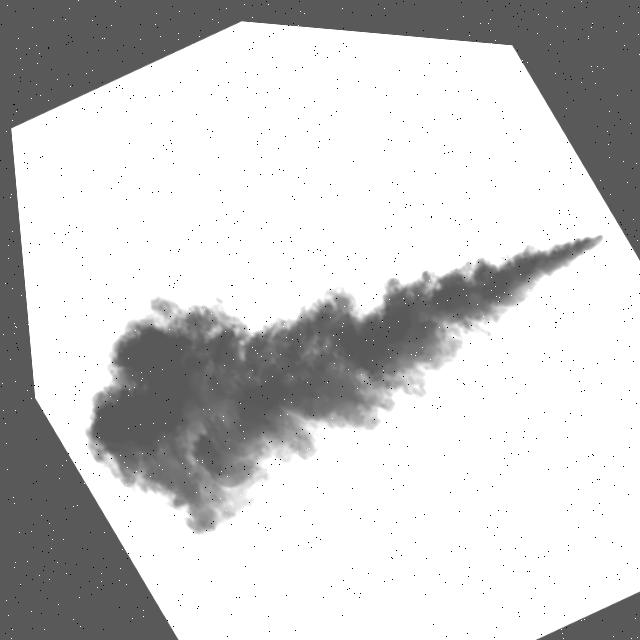Smoke: (5, 71, 640, 612)
